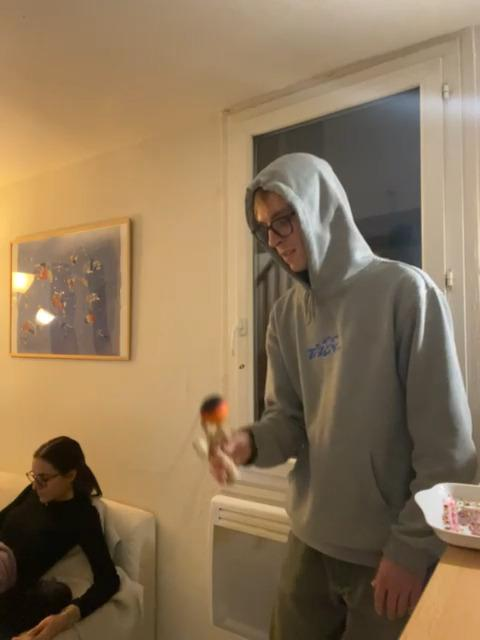kendama_ball: (200, 396, 229, 426)
